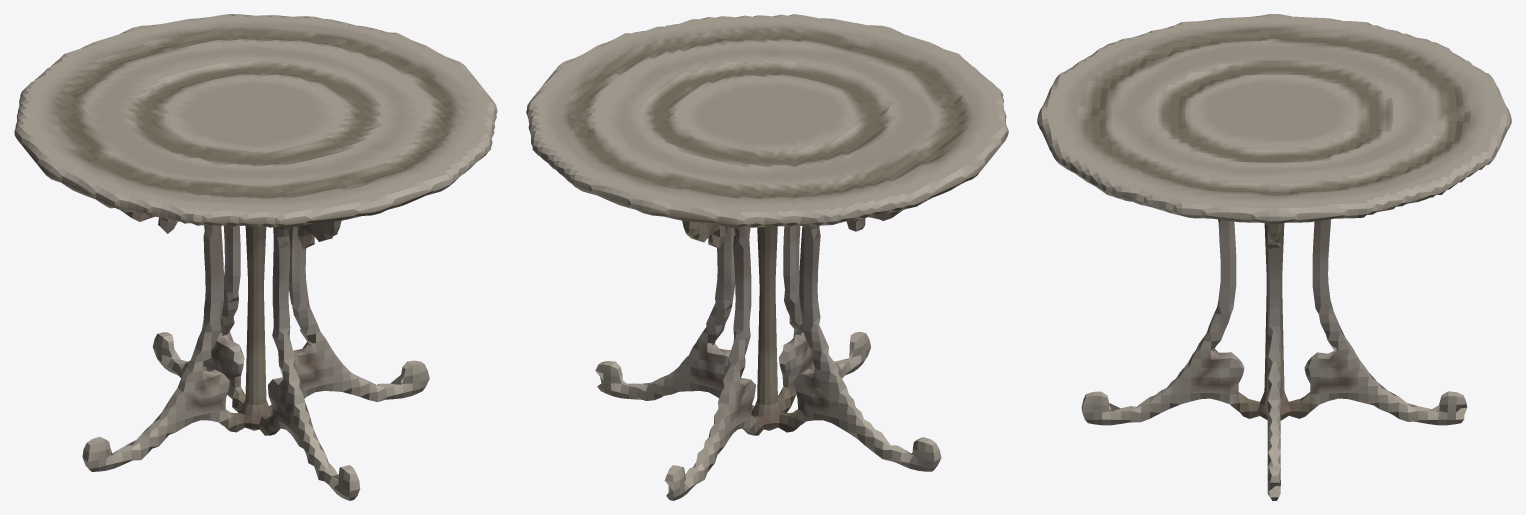
Rendered from PC_Garden_Table.fbx.
3 views of the same model, side by side, from view 1: azimuth 30°, elevation 25°; view 2: azimuth 150°, elevation 25°; view 3: azimuth 270°, elevation 25° (orthographic). The views are drawn at different scales.
Visible parts, largest first — view 1: Table.001; view 2: Table.001; view 3: Table.001.
Part boxes in pixels (bbox=[...]): Table.001: bbox=[14, 14, 497, 500]; Table.001: bbox=[526, 14, 1008, 500]; Table.001: bbox=[1037, 14, 1511, 500].
Size of the model in its own units: 180 by 130 by 180.
